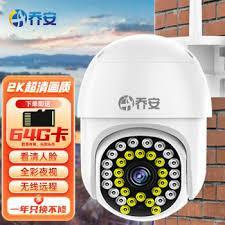maru: (80, 30, 213, 225)
